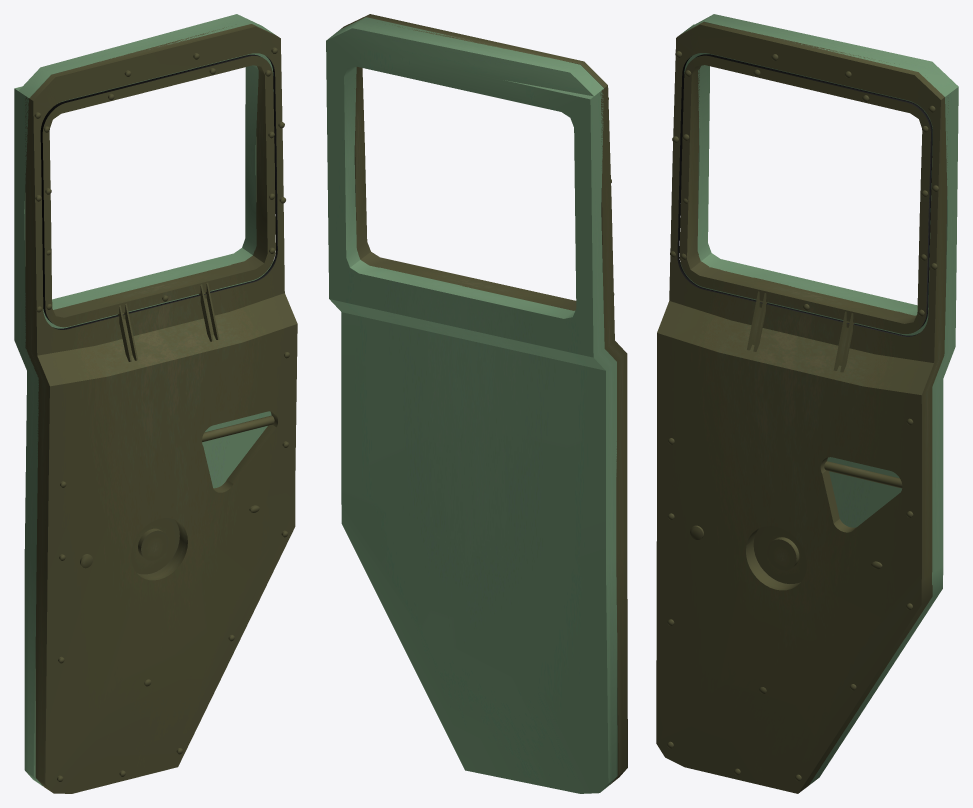
The model's file is Front_door.gltf.
The picture shows the model from 3 angles, left to right: view 1: azimuth 30°, elevation 25°; view 2: azimuth 150°, elevation 25°; view 3: azimuth 330°, elevation 25°; orthographic projection. The views are drawn at different scales.
Visible parts, largest first — view 1: Front_door; view 2: Front_door; view 3: Front_door.
Part boxes in pixels (x1,y1,x2,y2): Front_door: (14, 14, 297, 793); Front_door: (326, 14, 627, 793); Front_door: (656, 14, 958, 793).
Size of what is drawn, in the model's own units: 0.3274 by 0.8611 by 0.0895.
3 materials, 3 textured.
